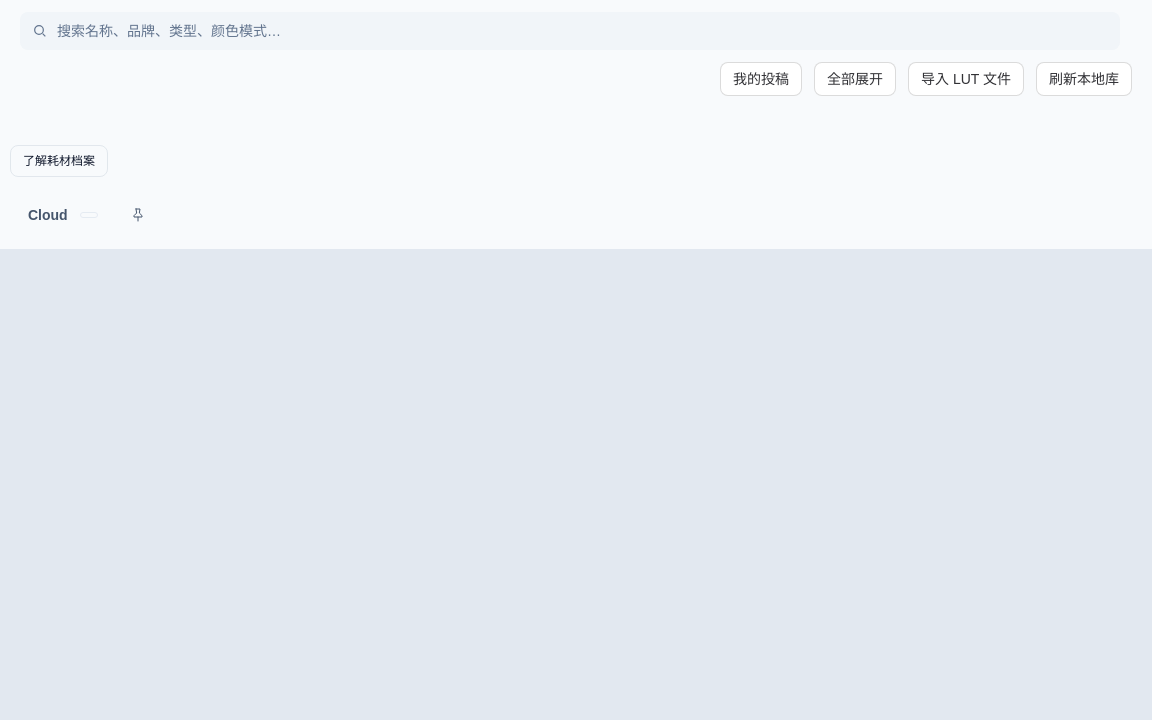
Test case: LutLibraryPanel › retains the shared folder heading and shows the individual maker and original name for a SKU match
Expected: the text "Cloud" is shown, [28,205,68,225]
Type "SN-L10" into the search field. click: (570,31)
box: [20,12,1120,50]
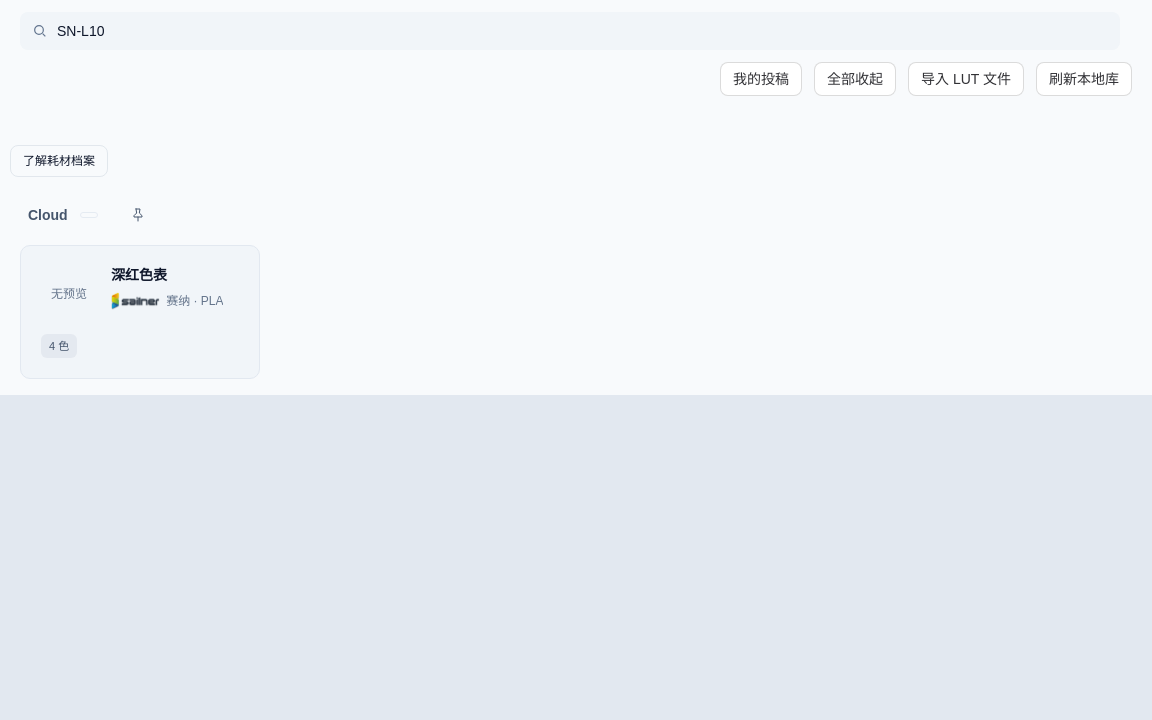
Expected: the text "Cloud" is shown, [28,205,68,225]
Expected: the button with test id "lut-library-card" shows "赛纳"
Expected: the button with test id "lut-library-card" shows "深红色表"
Click the button with test id "lut-library-card". click: (140,312)
box: [20,245,260,379]
(page scrolled)
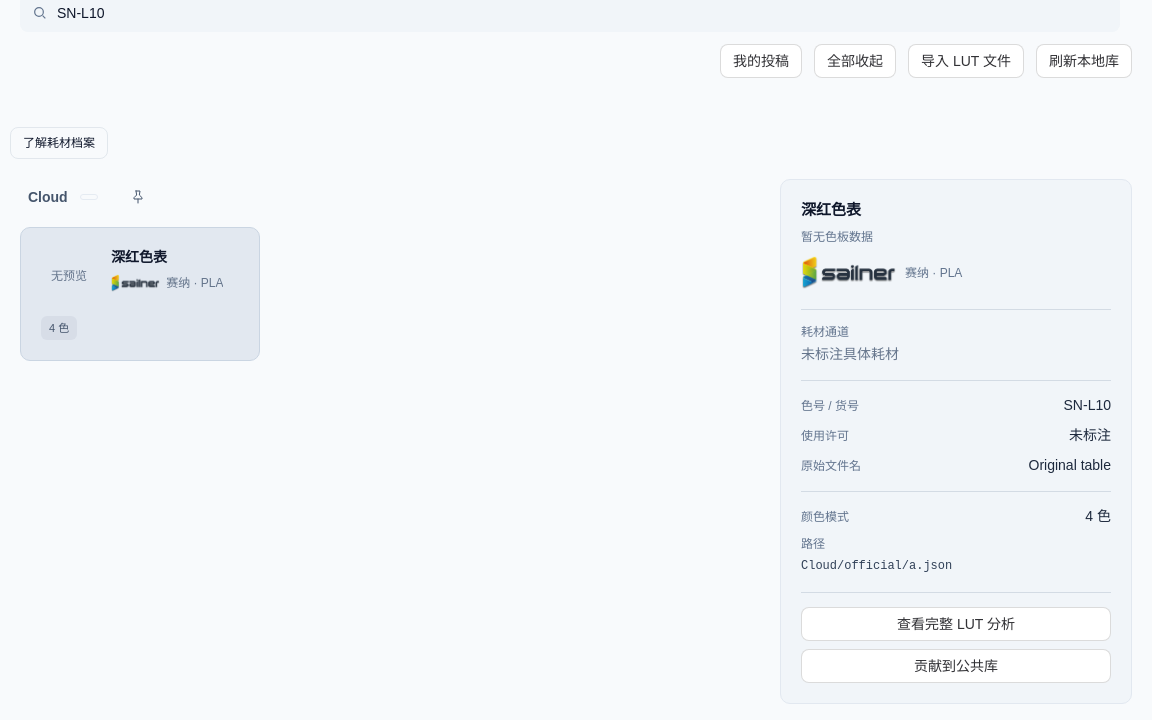
Expected: the element with test id "lut-library-details" shows "Original table", [1028,457,1111,473]
Expected: the element with test id "lut-library-details" shows "Cloud/official/a.json", [801,559,952,573]
Expected: the element with test id "lut-library-details" shows "SN-L10", [1064,397,1111,413]
